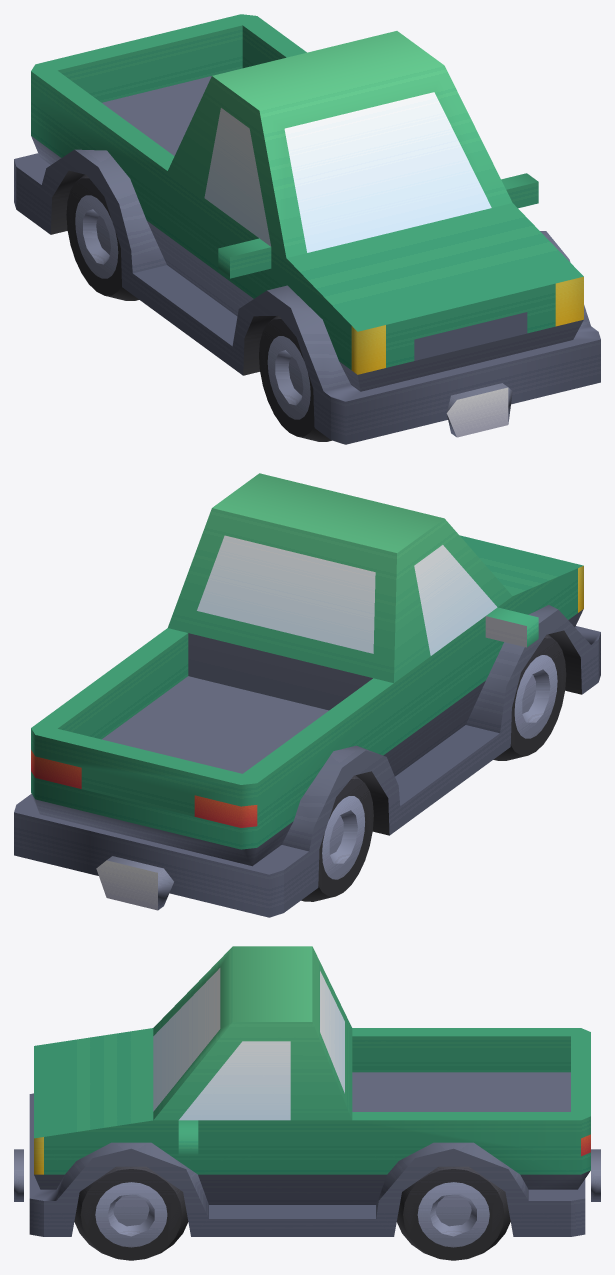
Rendered from truck.lod1.glb.
3 views of the same model, one above another, from view 1: azimuth 30°, elevation 25°; view 2: azimuth 150°, elevation 25°; view 3: azimuth 270°, elevation 25° (orthographic). The views are drawn at different scales.
Parts seen in each view (by area): view 1: body, wheel-front-right, wheel-back-right; view 2: body, wheel-front-right, wheel-back-right; view 3: body, wheel-front-left, wheel-back-left.
Boxes of the visible parts, bbox=[...] form: body: bbox=[14, 14, 600, 444]; wheel-front-right: bbox=[259, 315, 331, 441]; wheel-back-right: bbox=[66, 174, 138, 300]; body: bbox=[14, 473, 600, 917]; wheel-front-right: bbox=[493, 634, 566, 760]; wheel-back-right: bbox=[301, 775, 373, 901]; body: bbox=[14, 946, 600, 1236]; wheel-front-left: bbox=[74, 1166, 188, 1260]; wheel-back-left: bbox=[396, 1166, 510, 1260].
Size of the model in its own units: 1.5 by 1.3 by 2.95.
1 material, 1 textured.
